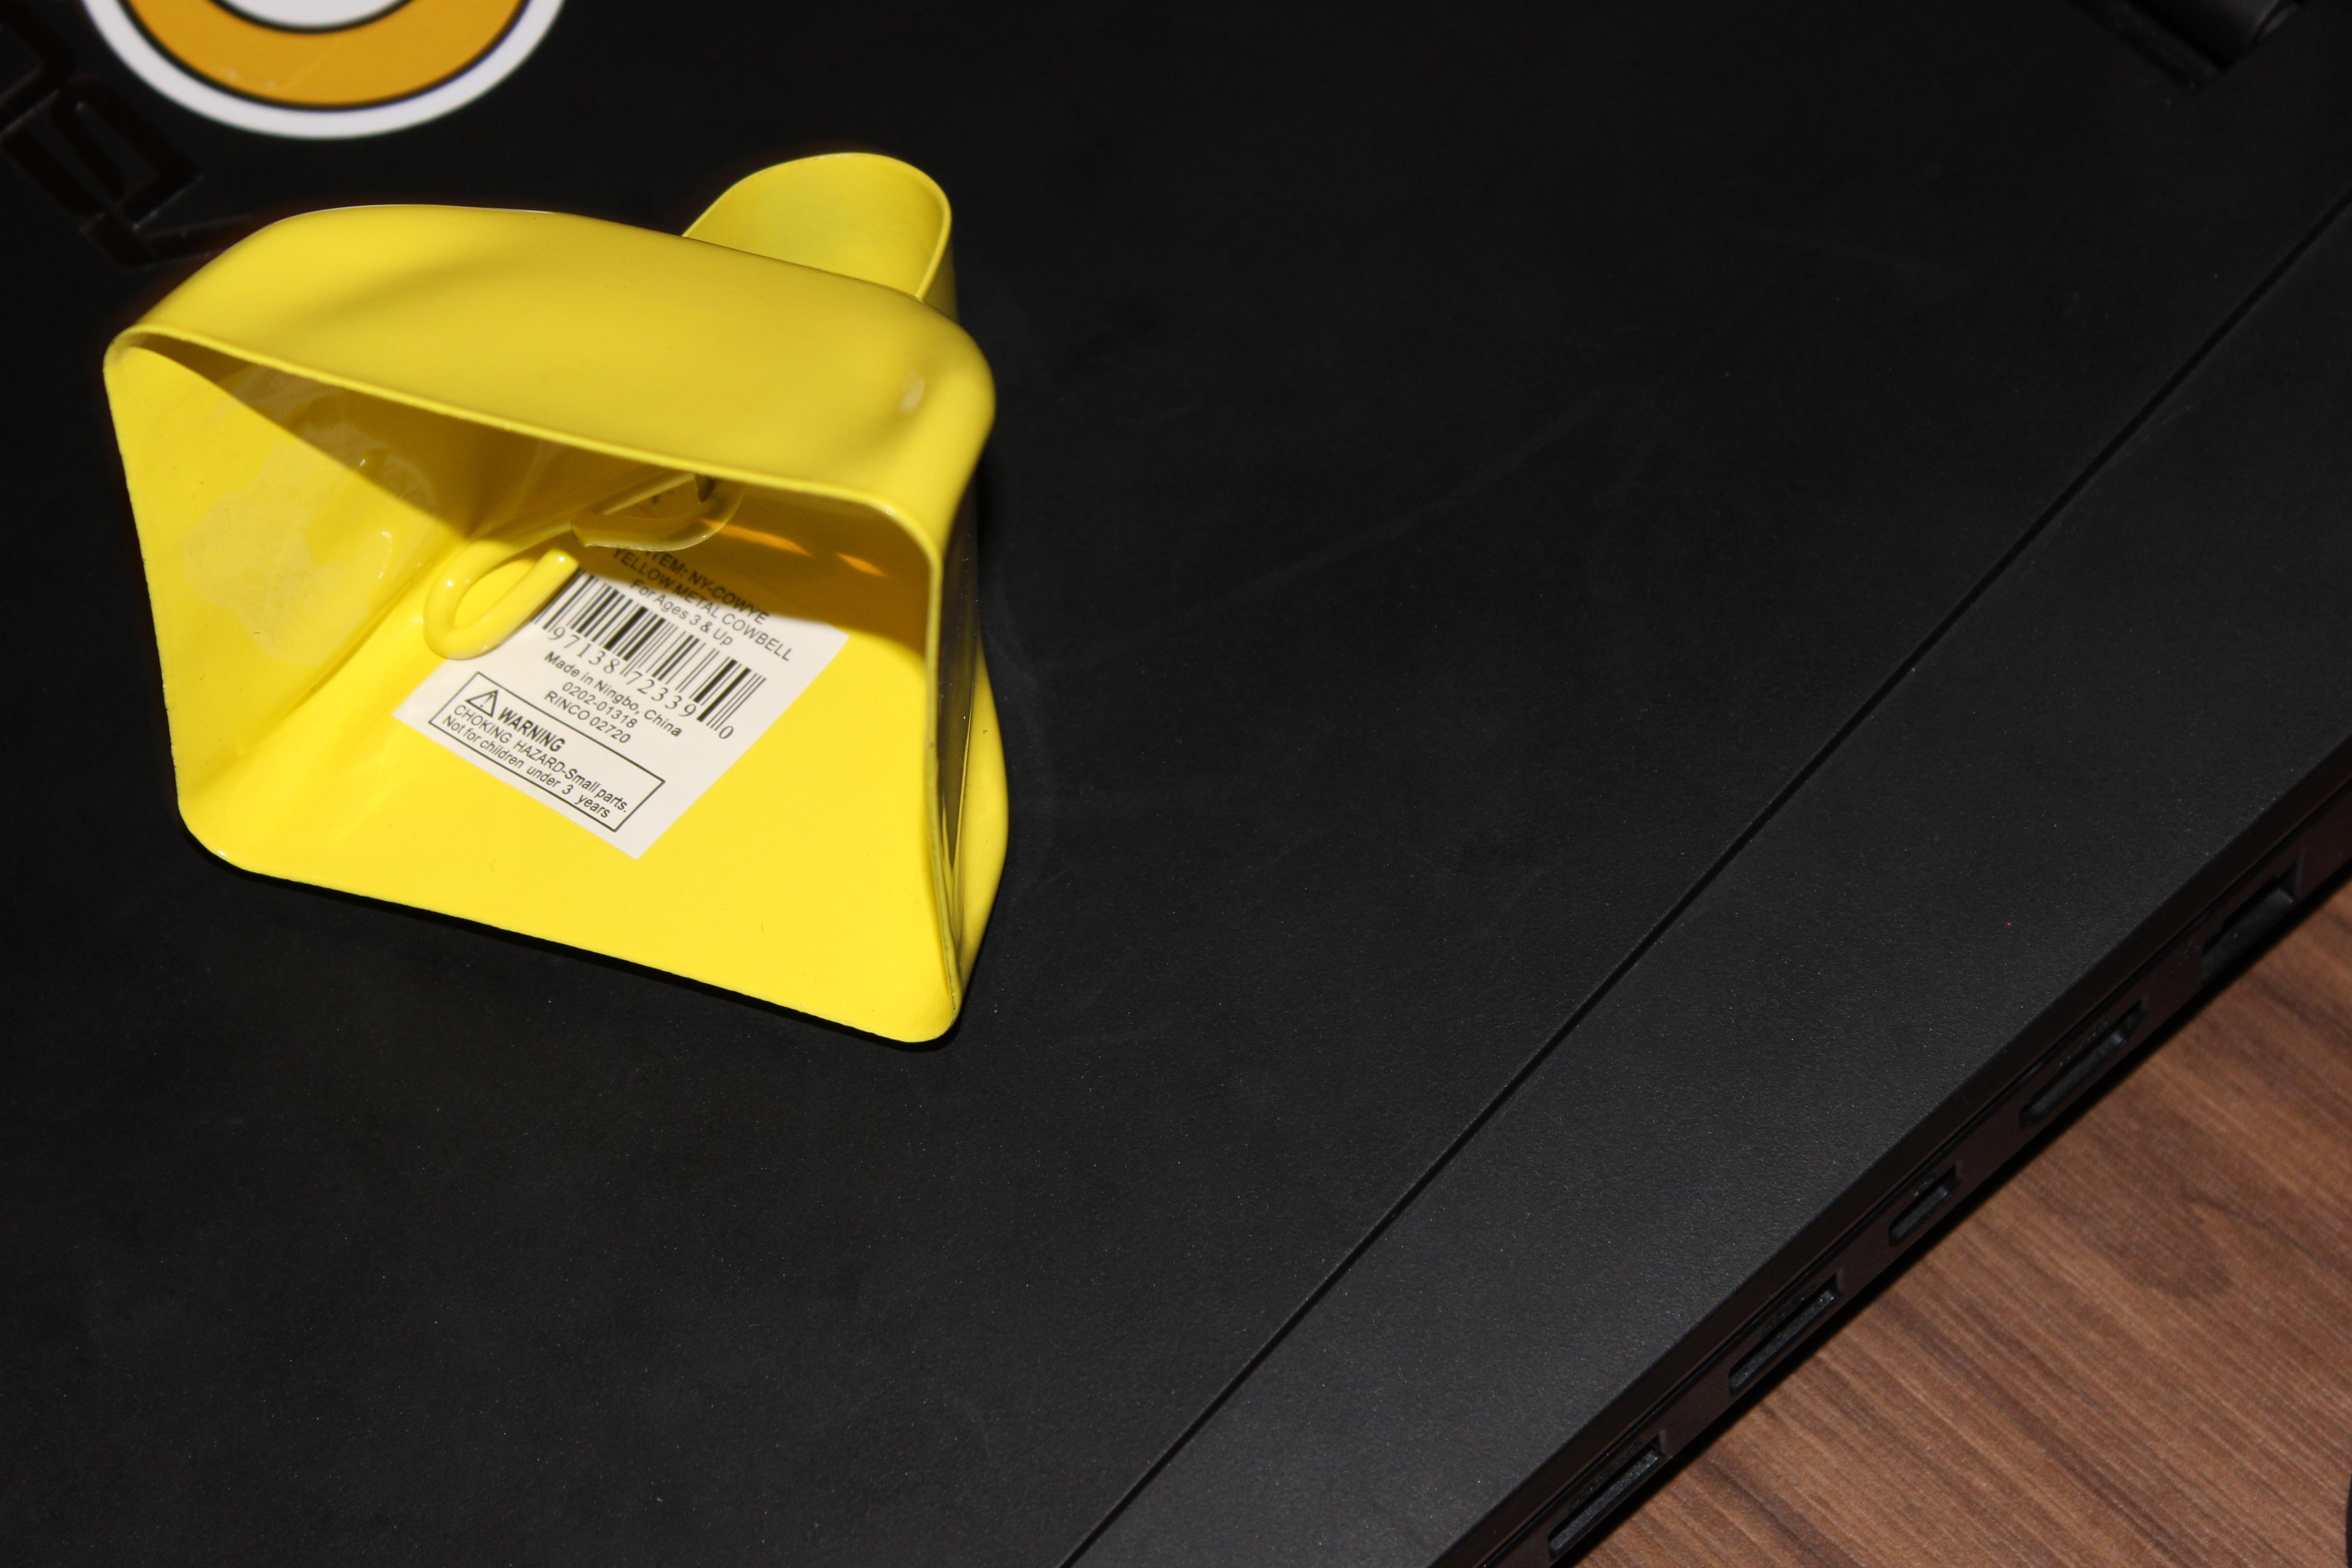cowbell: (79, 114, 1076, 1071)
